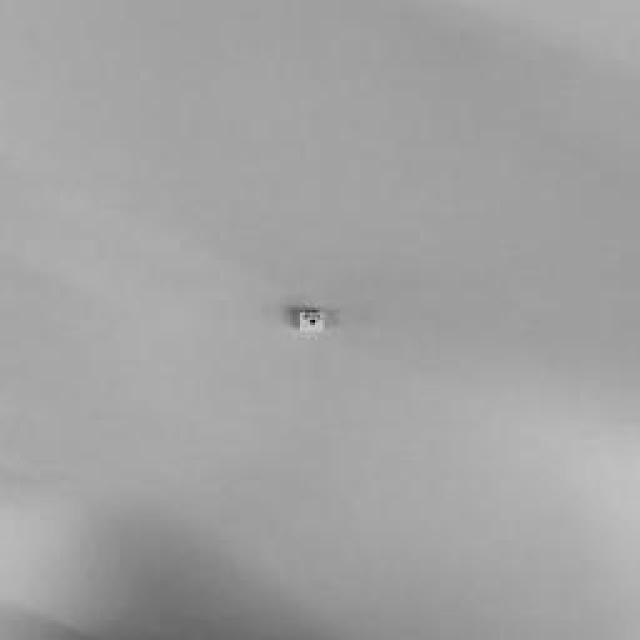dice_1: (300, 312, 325, 332)
